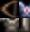bow: (0, 0, 19, 18)
breastplate: (0, 18, 19, 32), (19, 0, 30, 18)
legs: (19, 18, 30, 32)
